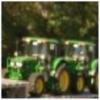tractors: (5, 34, 72, 97), (56, 39, 98, 97)
